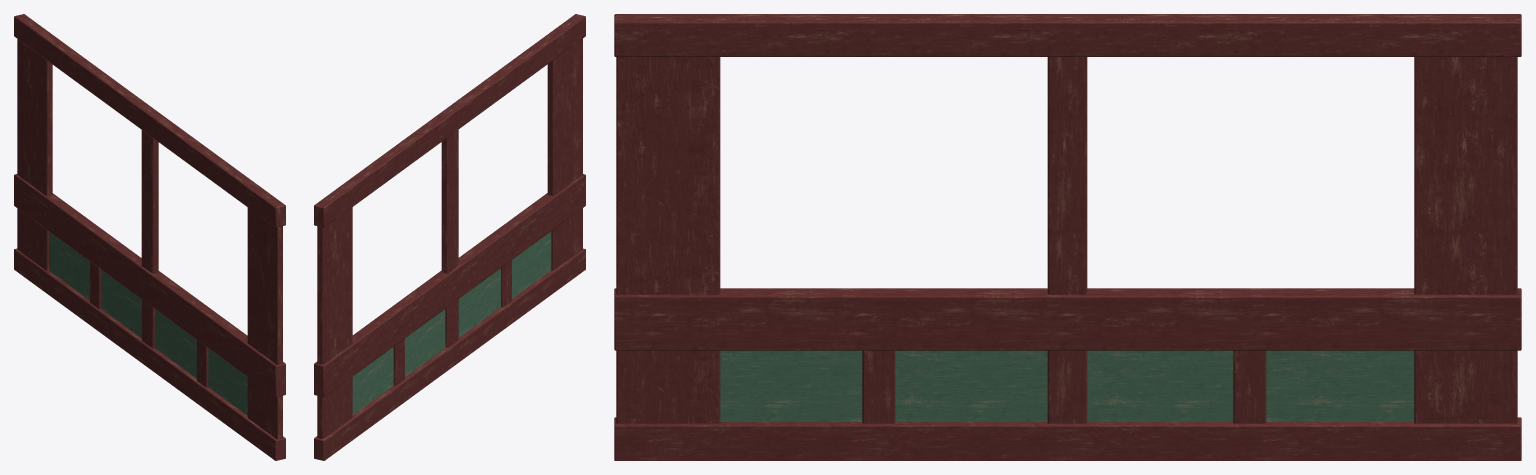
The model's file is SM_Wall01c.fbx.
The picture shows the model from 3 angles, left to right: view 1: azimuth 30°, elevation 25°; view 2: azimuth 150°, elevation 25°; view 3: azimuth 270°, elevation 25°; orthographic projection. The views are drawn at different scales.
Visible parts, largest first — view 1: SM_Wall01c; view 2: SM_Wall01c; view 3: SM_Wall01c.
Boxes of the visible parts, x1=… form: SM_Wall01c: x1=14, y1=14, x2=285, y2=460; SM_Wall01c: x1=314, y1=14, x2=585, y2=460; SM_Wall01c: x1=614, y1=14, x2=1521, y2=460.
Size of the model in its own units: 7 by 300 by 160.
2 materials, 2 textured.
